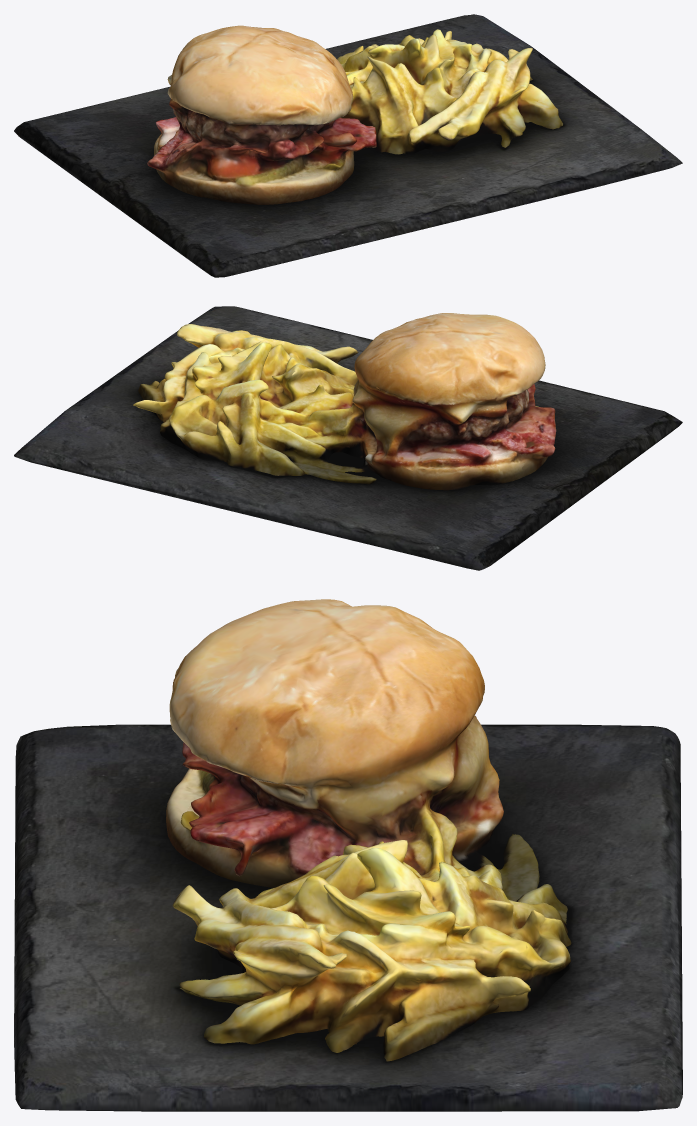
The model's file is Plato_03.glb.
The picture shows the model from 3 angles, top to bottom: view 1: azimuth 30°, elevation 25°; view 2: azimuth 150°, elevation 25°; view 3: azimuth 270°, elevation 25°; orthographic projection. The views are drawn at different scales.
Parts seen in each view (by area): view 1: Plato Pizarra, BurgerTest03; view 2: BurgerTest03, Plato Pizarra; view 3: Plato Pizarra, BurgerTest03.
Part boxes in pixels (x1,y1,x2,y2): Plato Pizarra: [14, 14, 682, 277]; BurgerTest03: [147, 25, 562, 204]; BurgerTest03: [133, 313, 556, 490]; Plato Pizarra: [14, 306, 682, 570]; Plato Pizarra: [14, 724, 682, 1111]; BurgerTest03: [166, 599, 571, 1061].
Size of the model in its own units: 0.3082 by 0.0827 by 0.2322.
Materials: 2 (2 with a texture image).
